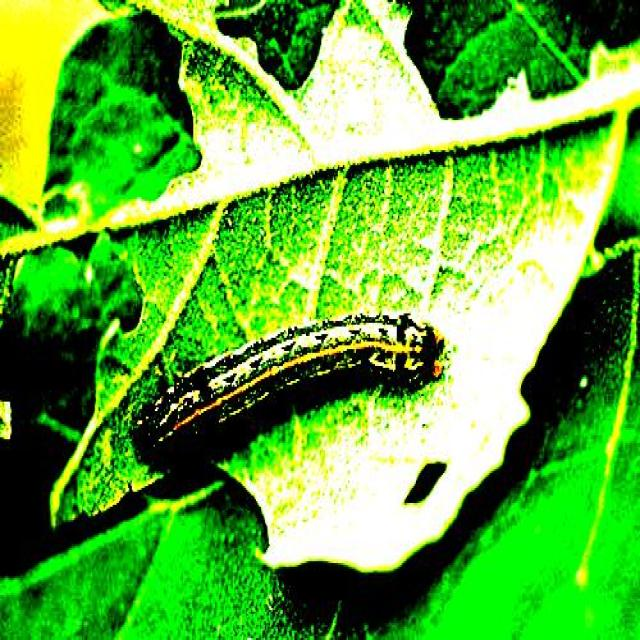Armyworm: (124, 316, 474, 458)
